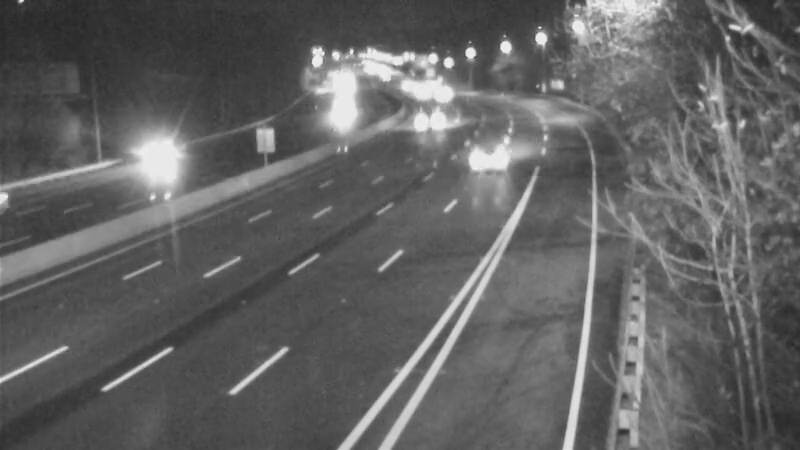vehicle: (443, 118, 523, 198), (120, 123, 200, 203), (399, 70, 449, 120), (420, 71, 470, 121), (406, 99, 456, 149), (313, 83, 363, 133)
